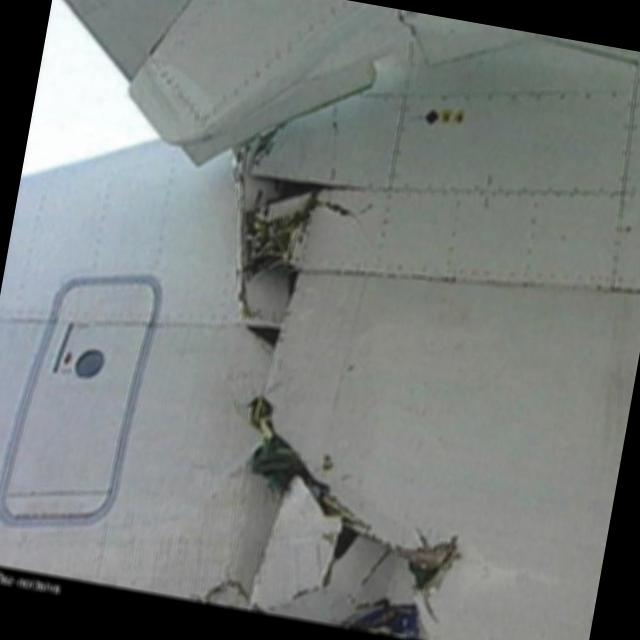crack: (151, 112, 533, 628)
